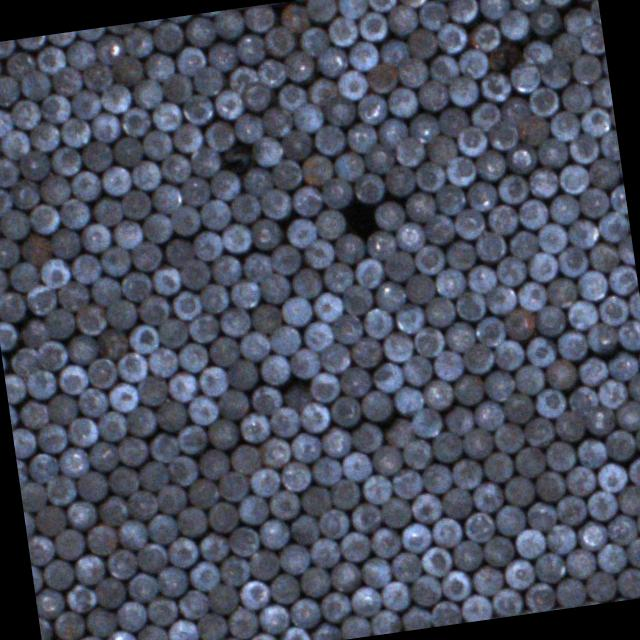tool: (7, 384, 58, 438), (195, 444, 233, 482), (572, 432, 610, 470), (82, 521, 120, 558), (358, 387, 396, 424), (72, 300, 110, 337), (288, 181, 326, 218), (72, 468, 111, 504), (318, 422, 354, 460), (450, 536, 486, 574), (312, 43, 350, 79), (83, 603, 119, 640), (144, 592, 180, 629), (103, 546, 140, 582), (256, 516, 293, 552), (94, 492, 130, 529), (56, 444, 92, 481), (164, 368, 201, 404), (449, 456, 486, 492), (490, 419, 526, 456), (482, 366, 518, 403), (542, 356, 579, 392), (422, 294, 458, 331), (556, 160, 592, 197), (367, 524, 402, 562), (392, 132, 427, 170), (318, 588, 354, 624), (348, 582, 384, 618), (114, 598, 150, 634), (156, 564, 192, 600), (276, 540, 312, 576), (306, 534, 342, 570), (164, 534, 200, 570), (50, 526, 86, 562), (115, 516, 151, 552), (216, 386, 252, 422), (307, 369, 343, 405), (104, 378, 140, 414), (512, 526, 548, 562), (544, 522, 580, 558), (492, 501, 528, 537), (469, 478, 505, 514), (582, 402, 618, 438), (349, 418, 385, 454), (439, 402, 475, 438), (420, 376, 456, 412), (380, 328, 416, 364), (440, 318, 476, 354), (472, 312, 508, 348), (63, 330, 99, 366), (6, 258, 42, 294), (17, 228, 53, 264), (300, 151, 336, 187), (202, 116, 238, 152), (554, 243, 590, 279), (320, 258, 356, 294), (566, 214, 602, 250), (546, 190, 582, 226), (322, 92, 358, 128), (466, 18, 502, 54), (94, 574, 129, 611), (593, 459, 630, 494), (188, 143, 223, 180), (483, 283, 520, 318), (495, 170, 530, 207), (468, 562, 506, 596), (135, 538, 169, 576), (248, 382, 286, 416), (510, 444, 548, 478), (458, 426, 496, 460), (558, 80, 596, 114), (216, 554, 252, 589), (205, 500, 241, 535), (236, 492, 271, 528), (328, 476, 363, 512), (64, 498, 100, 533), (216, 469, 252, 504), (278, 459, 314, 494), (64, 414, 100, 449), (154, 398, 190, 433), (45, 391, 80, 427), (226, 356, 261, 392), (317, 340, 352, 376), (418, 543, 453, 579), (576, 518, 611, 554), (398, 520, 434, 555), (554, 492, 589, 528), (501, 473, 536, 509), (358, 472, 394, 507), (480, 449, 515, 485), (380, 415, 416, 450), (327, 393, 362, 429), (451, 370, 486, 406), (575, 352, 610, 388), (604, 347, 640, 382), (368, 359, 404, 394), (523, 333, 559, 368), (113, 349, 149, 384), (256, 271, 292, 306), (27, 201, 62, 237), (36, 171, 72, 206), (17, 147, 52, 183), (141, 126, 176, 162), (473, 228, 508, 264), (351, 171, 387, 206), (473, 147, 508, 183), (422, 131, 458, 166), (547, 109, 583, 144), (172, 41, 207, 77), (204, 39, 240, 74), (262, 23, 298, 58), (345, 38, 380, 74), (434, 21, 470, 56), (526, 2, 562, 37), (235, 578, 272, 612), (72, 550, 106, 587), (298, 399, 332, 436), (78, 138, 115, 172), (565, 130, 602, 164), (268, 571, 303, 606), (328, 559, 363, 594), (41, 556, 76, 591), (185, 476, 220, 511), (258, 434, 293, 469), (280, 382, 315, 417), (258, 351, 293, 386), (359, 555, 394, 590), (438, 486, 473, 521), (533, 469, 568, 504), (389, 467, 424, 502), (198, 195, 233, 230), (312, 206, 347, 241), (432, 182, 467, 217), (354, 91, 389, 126), (182, 14, 217, 49), (276, 0, 311, 35), (287, 596, 323, 630), (522, 580, 558, 614), (338, 529, 372, 565), (146, 512, 180, 548), (31, 502, 67, 536), (136, 458, 170, 494), (228, 441, 264, 475), (205, 416, 241, 450), (236, 410, 272, 444), (268, 404, 302, 440), (96, 408, 130, 444), (482, 534, 516, 570), (604, 512, 640, 546), (462, 510, 498, 544), (522, 499, 558, 533), (378, 494, 412, 530), (408, 490, 442, 526), (604, 427, 638, 463), (430, 348, 466, 382), (554, 328, 590, 362), (348, 335, 384, 369), (206, 334, 242, 368), (266, 323, 302, 357), (248, 300, 284, 334), (135, 293, 171, 327), (54, 278, 90, 312), (268, 242, 304, 276), (300, 236, 336, 270), (68, 251, 104, 285), (248, 216, 284, 250), (78, 221, 114, 255), (228, 190, 262, 226), (88, 194, 124, 228), (110, 134, 146, 168), (180, 92, 216, 126), (452, 288, 488, 322), (372, 278, 408, 312), (586, 238, 620, 274), (363, 228, 399, 262), (464, 178, 498, 214), (382, 164, 418, 198), (504, 142, 540, 176), (536, 134, 570, 170), (452, 124, 488, 158), (486, 118, 522, 152), (312, 123, 348, 157), (446, 74, 482, 108), (68, 86, 102, 122), (96, 81, 132, 115), (159, 70, 195, 104), (109, 52, 145, 86), (376, 34, 412, 68), (384, 2, 420, 36), (212, 85, 245, 122), (49, 608, 87, 640), (583, 569, 618, 603), (503, 556, 537, 591), (563, 546, 598, 580), (34, 585, 68, 620), (318, 506, 352, 541), (268, 486, 303, 520), (299, 483, 333, 518), (154, 482, 189, 516), (310, 453, 344, 488), (289, 429, 323, 464), (115, 433, 149, 468), (186, 392, 220, 427), (76, 384, 110, 419), (585, 488, 619, 523), (563, 464, 598, 498), (543, 438, 578, 472), (371, 442, 405, 477), (429, 429, 463, 464), (522, 414, 556, 449), (566, 382, 600, 417), (55, 361, 89, 396), (94, 326, 129, 360), (126, 322, 161, 356), (310, 289, 344, 324), (289, 266, 324, 300), (516, 278, 550, 313), (604, 262, 639, 296), (525, 250, 560, 284), (412, 242, 447, 276), (332, 232, 367, 266), (485, 202, 520, 236), (403, 189, 437, 224), (412, 158, 447, 192), (344, 119, 378, 154), (384, 85, 418, 120), (538, 55, 572, 90), (396, 54, 431, 88), (93, 31, 127, 66), (150, 20, 185, 54), (560, 4, 595, 38), (355, 10, 390, 44), (197, 362, 230, 398), (408, 406, 444, 439), (565, 298, 601, 331), (36, 337, 69, 373), (186, 311, 222, 344), (282, 215, 318, 248), (259, 104, 295, 137), (117, 105, 153, 138), (479, 68, 512, 104), (25, 365, 57, 402), (160, 235, 197, 267), (226, 606, 260, 640), (256, 602, 290, 636), (438, 568, 472, 602), (532, 550, 566, 584), (594, 540, 628, 574), (176, 588, 210, 622), (64, 581, 98, 615), (126, 570, 160, 604), (187, 559, 221, 593), (197, 530, 231, 564), (227, 524, 261, 558), (288, 512, 322, 546), (44, 474, 78, 508), (106, 464, 140, 498), (166, 453, 200, 487), (34, 420, 68, 454), (288, 346, 322, 380), (420, 460, 454, 494), (471, 398, 505, 432), (501, 392, 535, 426), (338, 364, 372, 398), (411, 324, 445, 358), (596, 293, 630, 327), (146, 344, 180, 378), (156, 316, 190, 350), (218, 304, 252, 338), (280, 294, 314, 328), (23, 282, 57, 316), (179, 256, 213, 290), (208, 253, 242, 287), (208, 168, 242, 202), (270, 157, 304, 191), (68, 168, 102, 202), (128, 157, 162, 191), (292, 100, 326, 134), (88, 110, 122, 144), (575, 268, 609, 302), (434, 266, 468, 300), (494, 254, 528, 288), (352, 256, 386, 290), (382, 249, 416, 283), (598, 209, 632, 243), (372, 199, 406, 233), (526, 164, 560, 198), (586, 156, 620, 190), (362, 141, 396, 175), (518, 112, 552, 146), (578, 105, 612, 139), (416, 78, 450, 112), (334, 67, 368, 101), (128, 76, 162, 110), (18, 68, 52, 102), (33, 42, 67, 76), (380, 578, 413, 613), (176, 504, 209, 539), (146, 430, 181, 463), (125, 404, 158, 439), (341, 448, 374, 483), (533, 386, 568, 419), (504, 306, 537, 341), (300, 319, 335, 352), (58, 196, 91, 231), (403, 271, 438, 304), (442, 154, 477, 187), (283, 48, 316, 83), (141, 49, 176, 82), (235, 30, 268, 65), (532, 304, 568, 336), (157, 152, 193, 184), (48, 145, 84, 177), (362, 304, 394, 340), (546, 274, 578, 310), (299, 564, 332, 598), (248, 548, 282, 581), (248, 466, 282, 499), (26, 451, 59, 485), (87, 440, 121, 473), (177, 422, 210, 456), (596, 376, 630, 409), (392, 383, 426, 416), (462, 342, 496, 375), (238, 329, 271, 363), (106, 298, 140, 331), (130, 239, 164, 272), (49, 226, 82, 260), (169, 202, 203, 235), (258, 187, 292, 220), (150, 180, 184, 213), (240, 164, 274, 197), (98, 163, 132, 196), (279, 127, 313, 160), (171, 120, 205, 153), (29, 120, 62, 154), (393, 301, 426, 335), (340, 282, 373, 316), (506, 227, 540, 260), (536, 220, 570, 253), (422, 212, 456, 245), (452, 207, 486, 240), (516, 197, 550, 230), (578, 185, 611, 219), (333, 148, 366, 182), (406, 109, 440, 142), (507, 60, 540, 94), (570, 52, 603, 86), (456, 46, 489, 80), (9, 98, 42, 132), (38, 92, 72, 125), (191, 64, 224, 98), (212, 8, 246, 41), (390, 549, 422, 584), (554, 408, 586, 443), (400, 353, 432, 388), (88, 274, 123, 306), (251, 133, 283, 168), (149, 100, 184, 132), (443, 238, 478, 270), (364, 62, 399, 94), (327, 13, 359, 48), (59, 115, 92, 148), (490, 586, 524, 618), (554, 576, 586, 610), (410, 572, 442, 606), (126, 488, 158, 522), (514, 362, 546, 396), (85, 356, 117, 390), (44, 306, 76, 340), (169, 288, 203, 320), (198, 281, 230, 315), (120, 270, 154, 302), (38, 256, 72, 288), (192, 228, 224, 262), (276, 80, 310, 112), (464, 262, 498, 294), (394, 219, 426, 253), (322, 176, 354, 210), (468, 98, 502, 130), (526, 86, 560, 118), (63, 38, 97, 70), (415, 0, 449, 32), (459, 592, 494, 623), (0, 206, 31, 241), (207, 582, 240, 614), (136, 374, 169, 406), (350, 501, 382, 534), (401, 439, 434, 471), (176, 341, 208, 374), (8, 344, 40, 377), (16, 316, 48, 349), (100, 245, 133, 277), (219, 221, 251, 254), (111, 218, 144, 250), (142, 210, 174, 243), (120, 187, 152, 220), (0, 127, 32, 160), (332, 312, 364, 345), (376, 116, 409, 148), (426, 51, 459, 83), (233, 110, 264, 144), (305, 75, 339, 106), (519, 36, 553, 67), (48, 65, 82, 96), (3, 50, 37, 81), (123, 24, 153, 59), (296, 26, 331, 56), (20, 477, 48, 514), (430, 516, 462, 548), (492, 338, 524, 370), (586, 321, 618, 353), (228, 278, 260, 310), (150, 264, 182, 296), (180, 174, 212, 206), (8, 178, 40, 210), (498, 8, 530, 40), (240, 80, 273, 111), (368, 606, 402, 636), (238, 250, 272, 280), (80, 60, 114, 90), (408, 26, 438, 60), (196, 609, 228, 640), (438, 105, 470, 136), (498, 94, 530, 125), (550, 31, 582, 62), (398, 602, 431, 632), (429, 598, 462, 628), (613, 397, 640, 433), (226, 63, 258, 93), (256, 56, 286, 88), (28, 534, 56, 568), (578, 22, 606, 56), (241, 4, 275, 32), (614, 563, 640, 599), (339, 612, 372, 640), (614, 482, 640, 517), (0, 290, 27, 323), (12, 424, 38, 458), (615, 318, 640, 353), (444, 0, 479, 24), (166, 616, 200, 640), (307, 618, 343, 640), (0, 73, 22, 108), (606, 182, 628, 216), (5, 372, 28, 404), (590, 76, 613, 108), (305, 0, 337, 23), (476, 0, 512, 20), (598, 129, 620, 160), (0, 236, 20, 270), (134, 621, 169, 640), (333, 0, 368, 19), (0, 155, 20, 187), (0, 319, 19, 352), (623, 534, 640, 569), (616, 234, 635, 265), (277, 623, 310, 640), (625, 453, 640, 489), (624, 370, 640, 402), (15, 36, 48, 51), (0, 105, 14, 138), (508, 0, 543, 13), (48, 31, 76, 47), (0, 185, 13, 219), (103, 627, 136, 640), (366, 0, 398, 13), (395, 0, 431, 10), (0, 40, 16, 60), (246, 631, 279, 640), (0, 265, 9, 297), (539, 0, 572, 8), (633, 423, 640, 457), (216, 635, 248, 640)
tool_b: (487, 40, 525, 76), (219, 141, 256, 175)
void: (342, 198, 378, 240)
